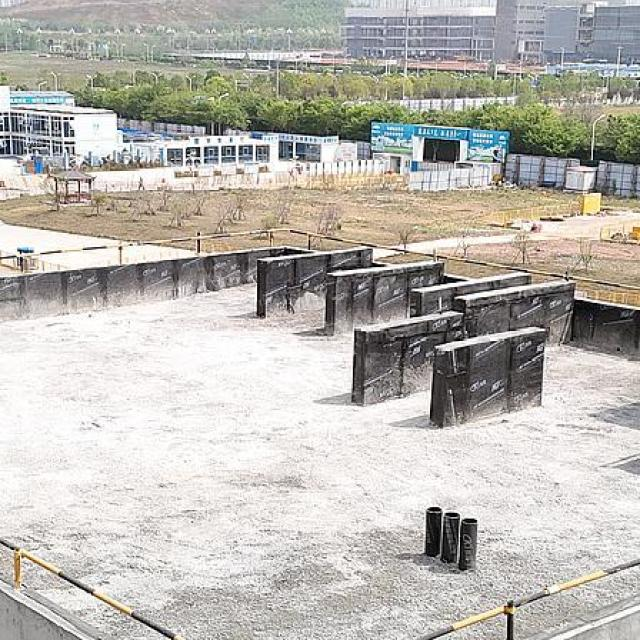edge_guardrail: (0, 228, 640, 291), (0, 537, 186, 640), (415, 557, 640, 640)
